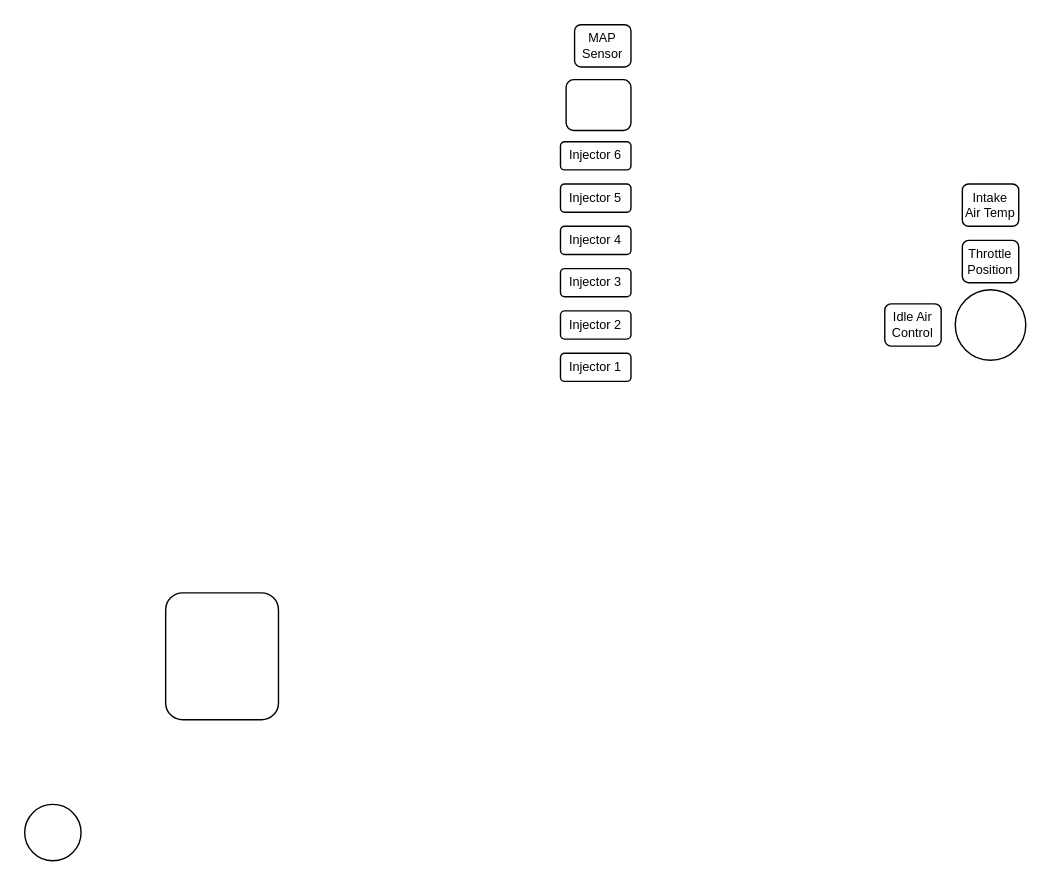
Some shapes in this 1050 by 885 pixel diagram are drawn without their labels. Each missing label, with the centre of its shape:
Alternator: the point at 221,655
Engine Coolant Temp: the point at 598,104
Throttle Body: the point at 990,324
